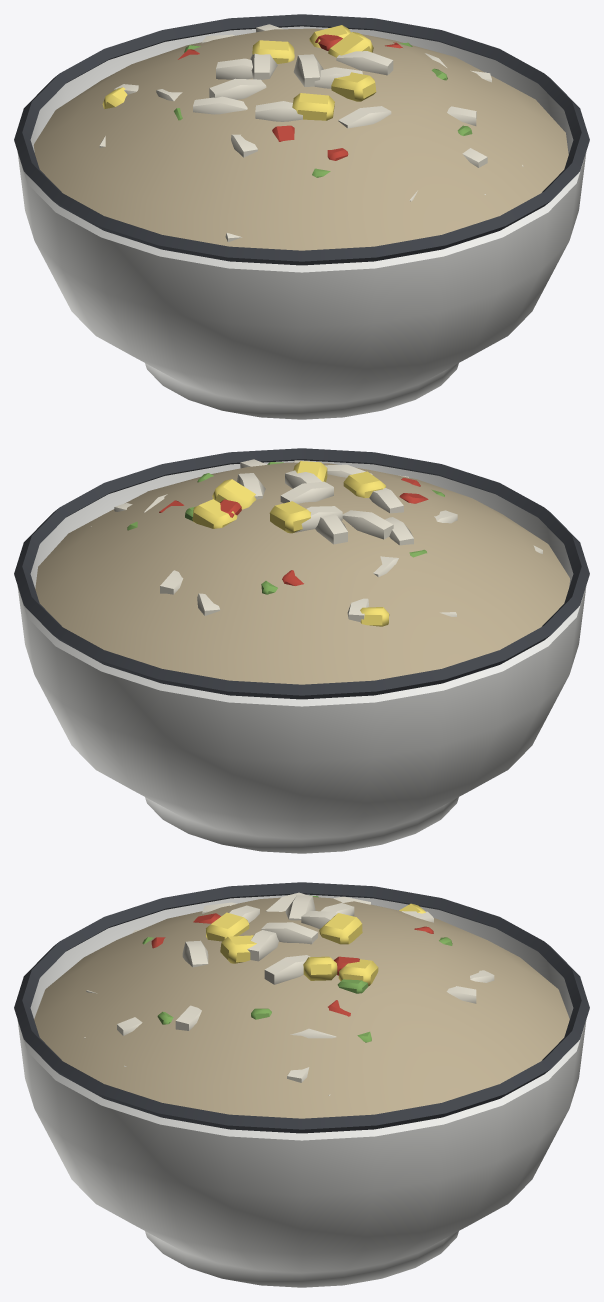
Rendered from cook_fried_rice.glb.
3 views of the same model, one above another, from view 1: azimuth 30°, elevation 25°; view 2: azimuth 150°, elevation 25°; view 3: azimuth 270°, elevation 25° (orthographic).
Parts seen in each view (by area): view 1: body; view 2: body; view 3: body.
Part boxes in pixels (bbox=[...]): body: bbox=[14, 14, 589, 419]; body: bbox=[14, 448, 589, 853]; body: bbox=[14, 882, 589, 1287].
Bounding box in the file's own units: 0.0628 × 0.0355 × 0.0628.
